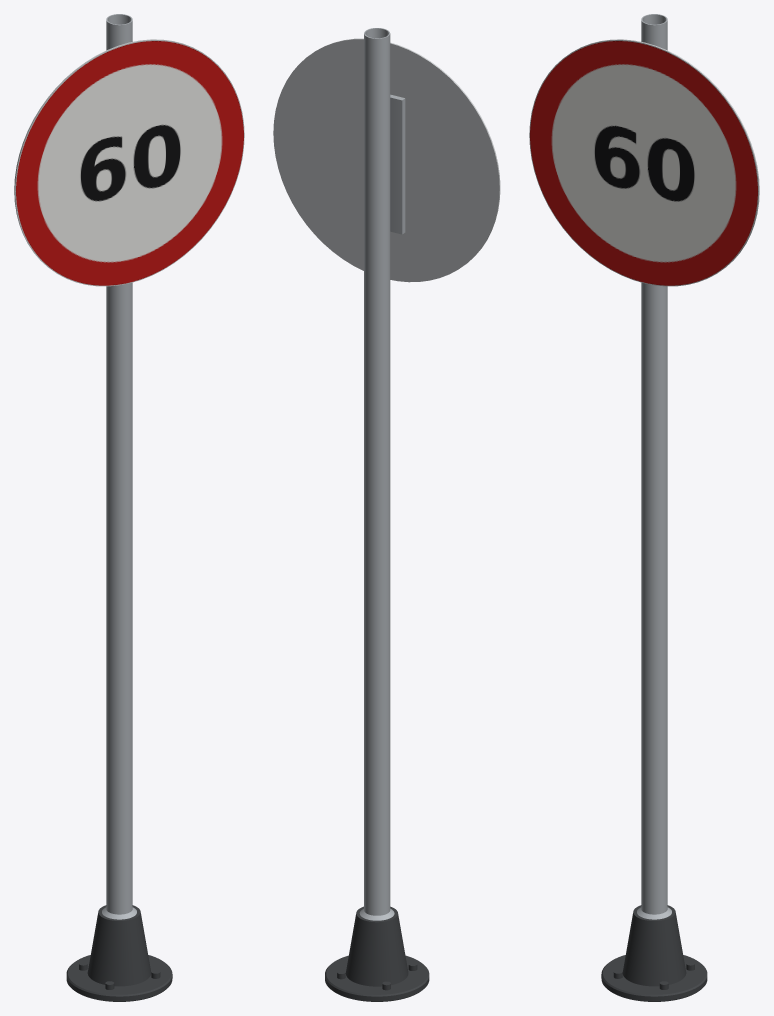
File: street-sign-post.glb
The picture shows the model from 3 angles, left to right: view 1: azimuth 30°, elevation 25°; view 2: azimuth 150°, elevation 25°; view 3: azimuth 330°, elevation 25°; orthographic projection.
Parts seen in each view (by area): view 1: GLTF, pole, sign_post_footing_obj, Geom; view 2: Geom, pole, sign_post_footing_obj, mount_bracket; view 3: GLTF, pole, sign_post_footing_obj, Geom.
Boxes of the visible parts, x1,y1,x2,y2 form: GLTF: (16, 41, 243, 285); pole: (106, 14, 132, 914); sign_post_footing_obj: (66, 905, 172, 1001); Geom: (14, 39, 244, 286); Geom: (273, 38, 500, 282); pole: (364, 28, 390, 915); sign_post_footing_obj: (325, 906, 429, 1001); mount_bracket: (390, 94, 405, 234); GLTF: (530, 41, 757, 285); pole: (641, 14, 667, 914); sign_post_footing_obj: (601, 905, 707, 1001); Geom: (529, 39, 759, 286).
Bounding box in the file's own units: 0.6 × 2.4 × 0.24.
4 materials, 1 textured.
